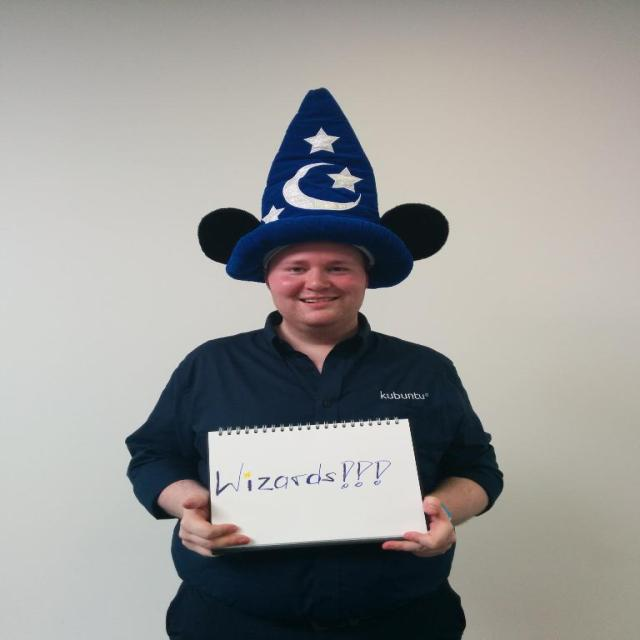Hat: (226, 84, 410, 290)
